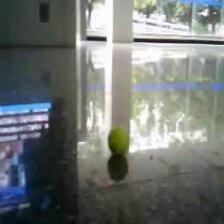tennis: (108, 128, 130, 153)
